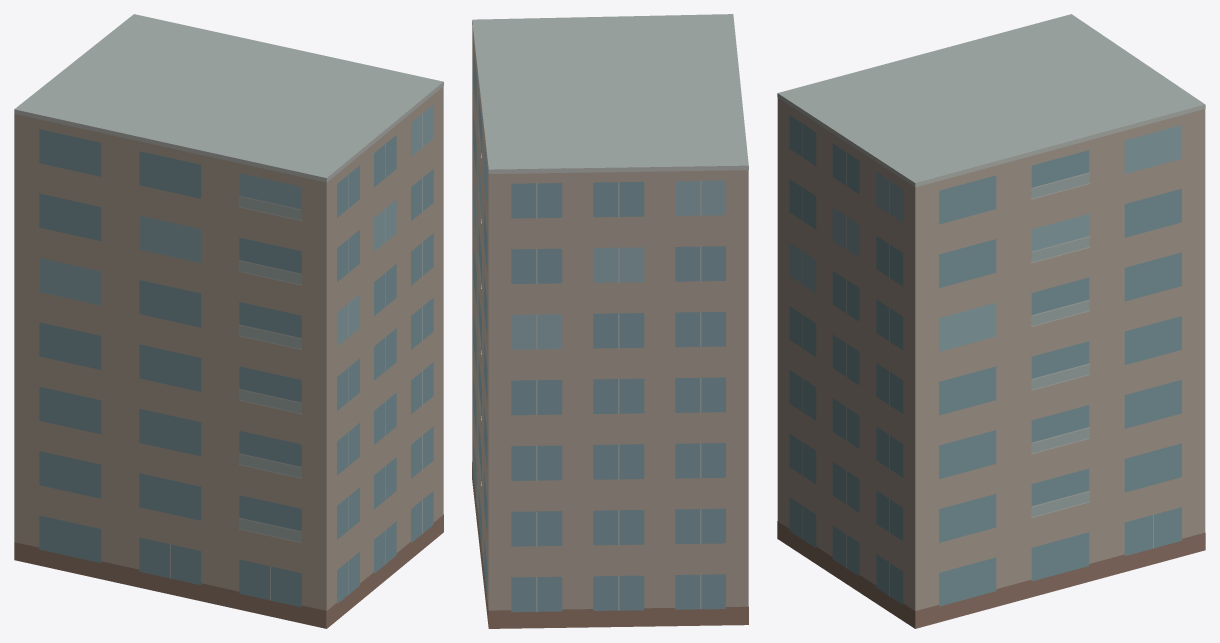
File: survey-upis-32848230.glb
3 views of the same model, side by side, from view 1: azimuth 30°, elevation 25°; view 2: azimuth 150°, elevation 25°; view 3: azimuth 270°, elevation 25° (orthographic). The views are drawn at different scales.
Visible parts, largest first — view 1: survey-upis-32848230.tmp; view 2: survey-upis-32848230.tmp; view 3: survey-upis-32848230.tmp.
Boxes of the visible parts, <box> form: survey-upis-32848230.tmp: <box>14,14,443,628</box>; survey-upis-32848230.tmp: <box>472,14,748,628</box>; survey-upis-32848230.tmp: <box>777,14,1205,628</box>.
Bounding box in the file's own units: 20.31 × 24.95 × 21.72.
